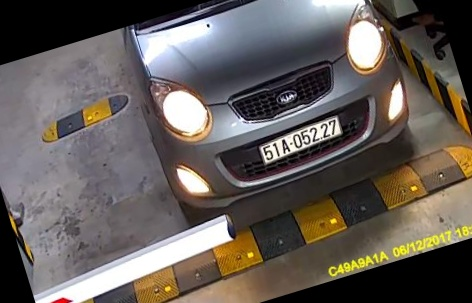plate: (255, 111, 347, 168)
